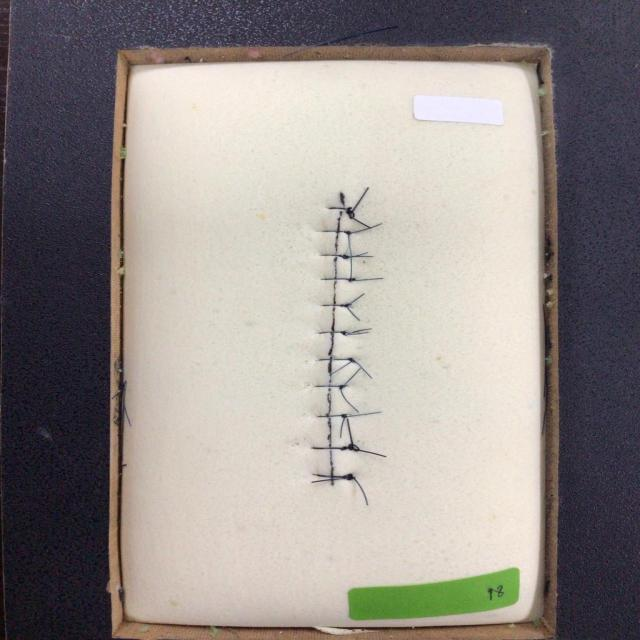knot: (339, 442, 362, 454), (344, 205, 357, 221), (341, 472, 358, 482), (336, 253, 354, 261), (344, 356, 358, 365), (337, 302, 354, 309), (337, 383, 351, 391), (338, 329, 350, 338), (341, 229, 354, 237), (345, 276, 358, 284), (338, 412, 351, 420)
leftover: (338, 384, 360, 413), (349, 186, 370, 214), (352, 476, 369, 506), (327, 359, 355, 377), (348, 222, 383, 235), (342, 366, 362, 387), (353, 360, 373, 379), (356, 448, 388, 458), (309, 476, 354, 483), (351, 216, 373, 230), (345, 304, 362, 322), (345, 410, 383, 418), (346, 417, 355, 449), (348, 292, 366, 306), (344, 327, 374, 335), (338, 414, 347, 439), (353, 276, 385, 282), (346, 231, 353, 258), (346, 251, 369, 259), (346, 254, 375, 259), (348, 256, 353, 281), (345, 331, 370, 336)
stitch: (327, 206, 355, 219), (311, 473, 356, 480), (309, 446, 361, 451), (316, 357, 357, 363), (318, 277, 357, 282), (317, 330, 349, 336), (317, 254, 350, 259), (320, 302, 353, 307), (320, 230, 352, 235), (315, 414, 350, 418), (313, 384, 347, 387)
wound: (325, 191, 346, 487)
